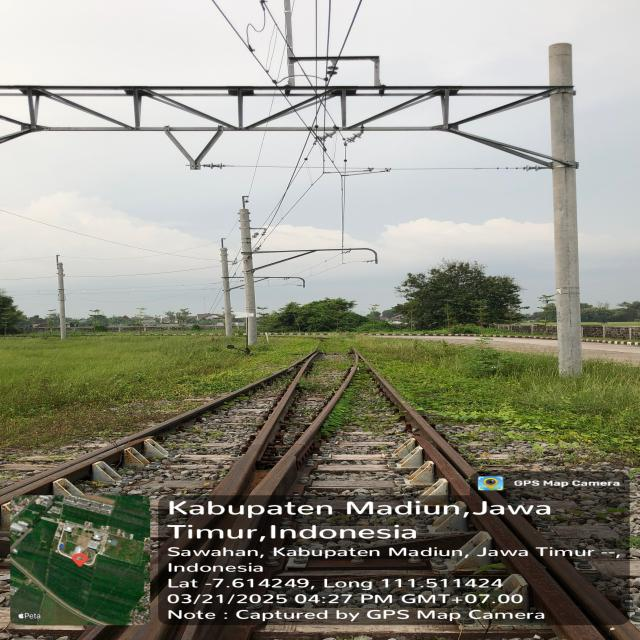rail-detection: (157, 349, 640, 640), (0, 361, 304, 504)
